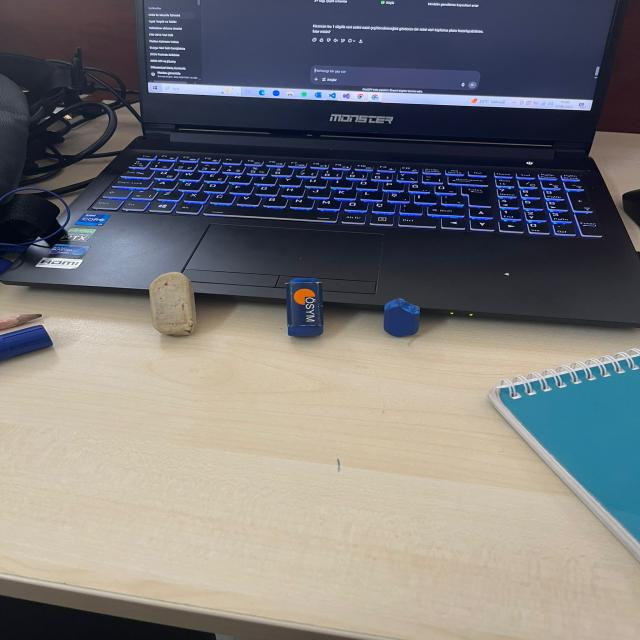eraser: (136, 266, 205, 344), (282, 273, 330, 344), (375, 294, 428, 342)
pencil: (0, 310, 55, 330)
